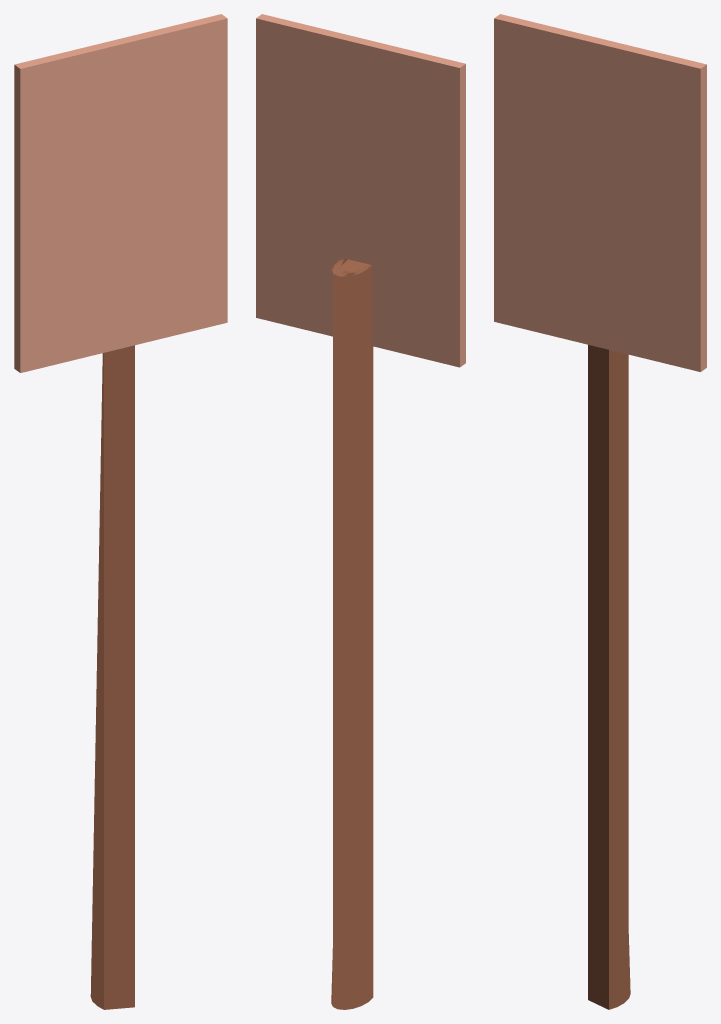
Rendered from msg.gltf.
3 renders of one model, left to right at view 1: azimuth 30°, elevation 25°; view 2: azimuth 150°, elevation 25°; view 3: azimuth 330°, elevation 25°, orthographic.
Visible parts, largest first — view 1: Cube.060; view 2: Cube.060; view 3: Cube.060.
Part boxes in pixels (left/top/right/bottom): Cube.060: left=14, top=14, right=227, bottom=1009; Cube.060: left=256, top=14, right=465, bottom=1009; Cube.060: left=494, top=14, right=706, bottom=1009.
Size of the model in its own units: 1.18 by 5.26 by 0.2619.
